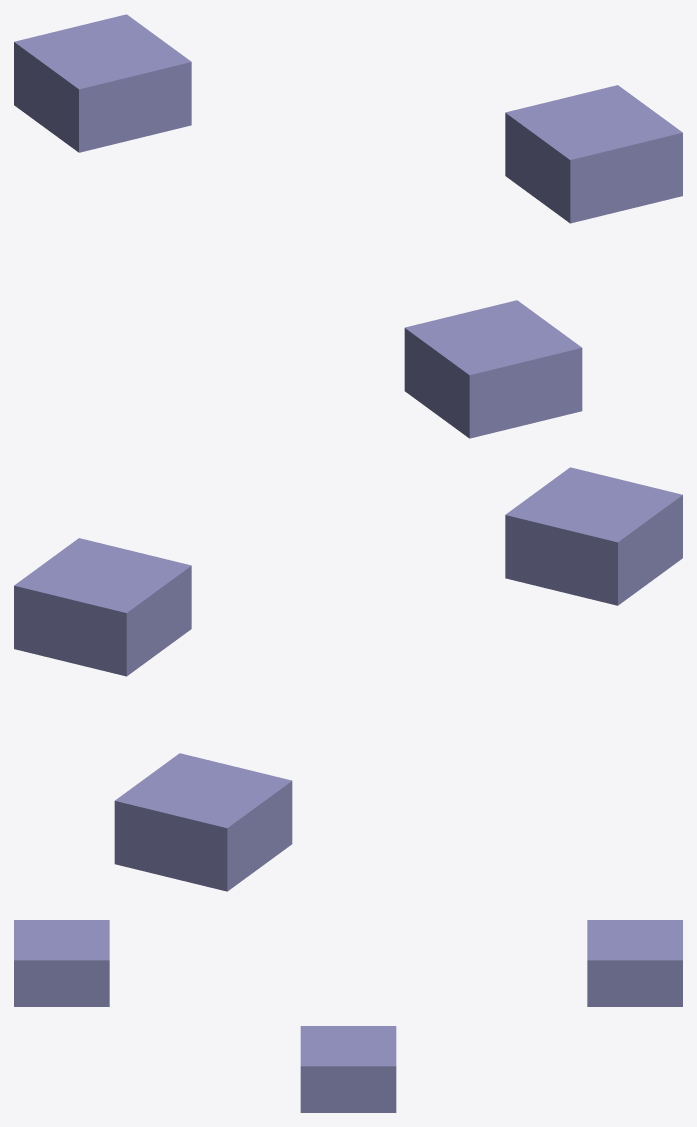
The model's file is DipolMagSmallSupportLeg.gltf.
The picture shows the model from 3 angles, top to bottom: view 1: azimuth 30°, elevation 25°; view 2: azimuth 150°, elevation 25°; view 3: azimuth 270°, elevation 25°; orthographic projection. The views are drawn at different scales.
Parts seen in each view (by area): view 1: logicDipolMagSmallSupportLeg_pv0x221ae80, logicDipolMagSmallSupportLeg_pv0x221aeb8, logicDipolMagSmallSupportLeg_pv0x221ae48; view 2: logicDipolMagSmallSupportLeg_pv0x221ae48, logicDipolMagSmallSupportLeg_pv0x221aeb8, logicDipolMagSmallSupportLeg_pv0x221ae80; view 3: logicDipolMagSmallSupportLeg_pv0x221aeb8, logicDipolMagSmallSupportLeg_pv0x221ae48, logicDipolMagSmallSupportLeg_pv0x221ae80.
Part boxes in pixels (x1,y1,x2,y2): logicDipolMagSmallSupportLeg_pv0x221ae80: [404, 300, 582, 438]; logicDipolMagSmallSupportLeg_pv0x221aeb8: [505, 85, 682, 223]; logicDipolMagSmallSupportLeg_pv0x221ae48: [14, 14, 191, 152]; logicDipolMagSmallSupportLeg_pv0x221ae48: [114, 753, 292, 891]; logicDipolMagSmallSupportLeg_pv0x221aeb8: [14, 538, 191, 676]; logicDipolMagSmallSupportLeg_pv0x221ae80: [505, 467, 682, 605]; logicDipolMagSmallSupportLeg_pv0x221aeb8: [300, 1026, 396, 1112]; logicDipolMagSmallSupportLeg_pv0x221ae48: [587, 920, 682, 1006]; logicDipolMagSmallSupportLeg_pv0x221ae80: [14, 920, 109, 1006].
Size of the model in its own units: 36.83 by 5.46 by 71.12.
